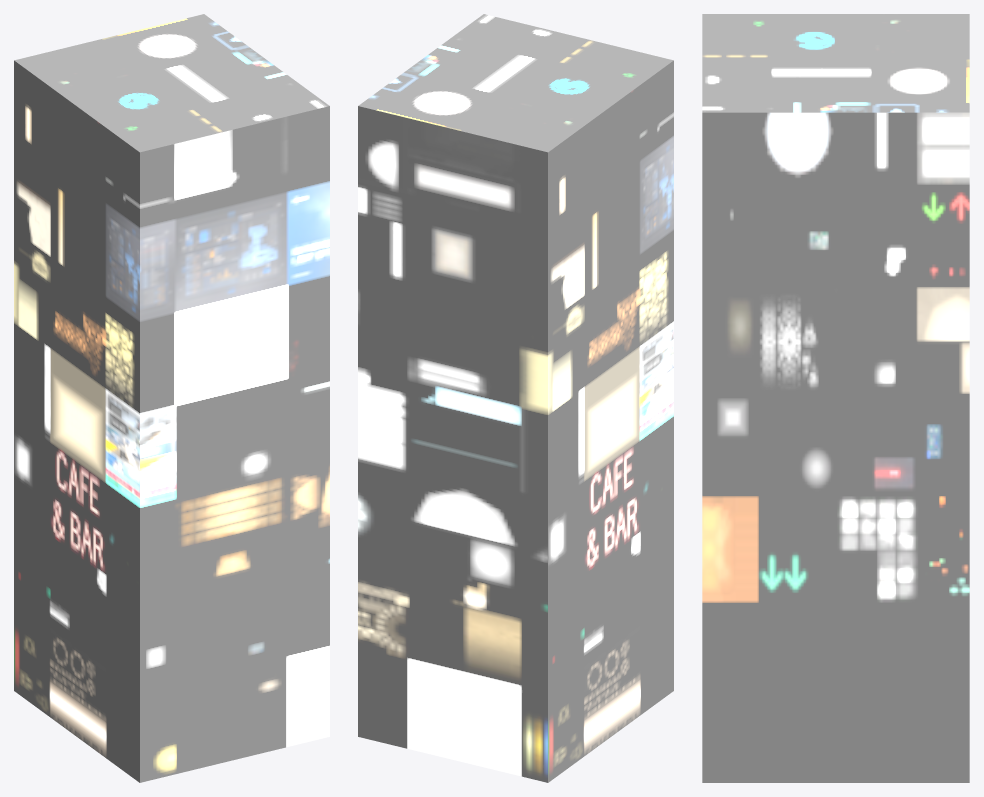
Rendered from SM_Generic_Lighting_WallLamp_01_ATLAS.fbx.
3 renders of one model, left to right at view 1: azimuth 30°, elevation 25°; view 2: azimuth 150°, elevation 25°; view 3: azimuth 270°, elevation 25°, orthographic. The views are drawn at different scales.
Parts seen in each view (by area): view 1: SM_Generic_Lighting_WallLamp_01_ATLAS; view 2: SM_Generic_Lighting_WallLamp_01_ATLAS; view 3: SM_Generic_Lighting_WallLamp_01_ATLAS.
Boxes of the visible parts, x1=… form: SM_Generic_Lighting_WallLamp_01_ATLAS: x1=14, y1=14, x2=329, y2=782; SM_Generic_Lighting_WallLamp_01_ATLAS: x1=358, y1=14, x2=673, y2=782; SM_Generic_Lighting_WallLamp_01_ATLAS: x1=702, y1=14, x2=969, y2=782.
Size of the model in its own units: 18.78 by 21.51 by 59.55.
